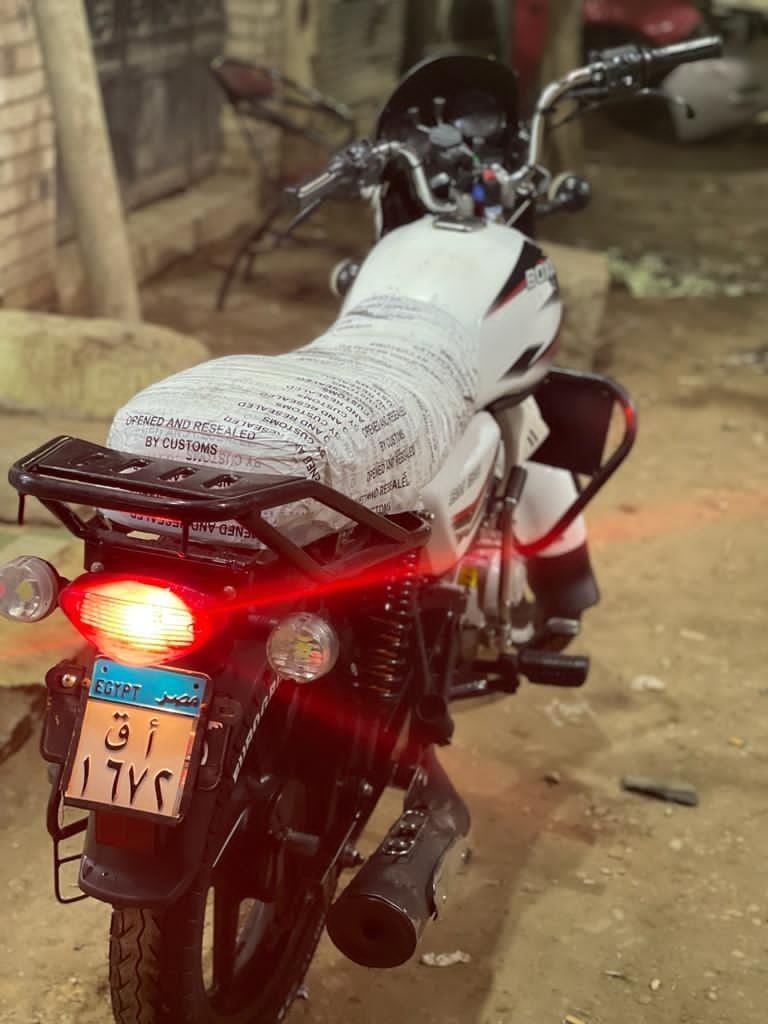License Plate: (63, 656, 209, 819)
